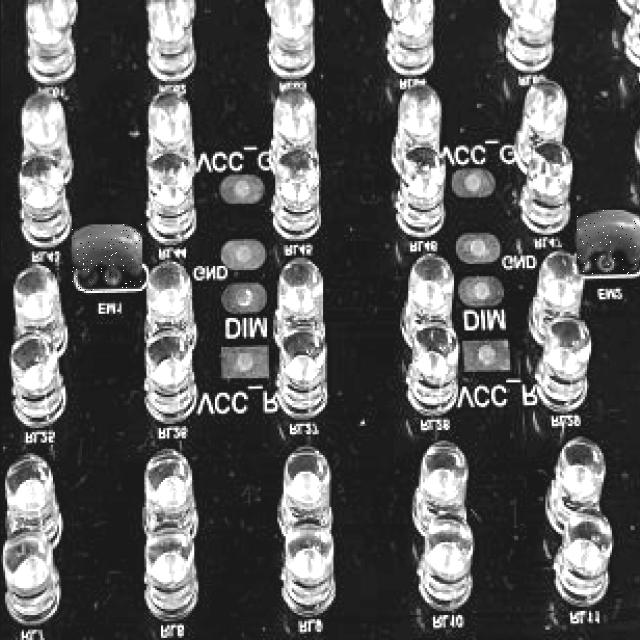EMC filter: (71, 224, 141, 291), (576, 210, 640, 275)
